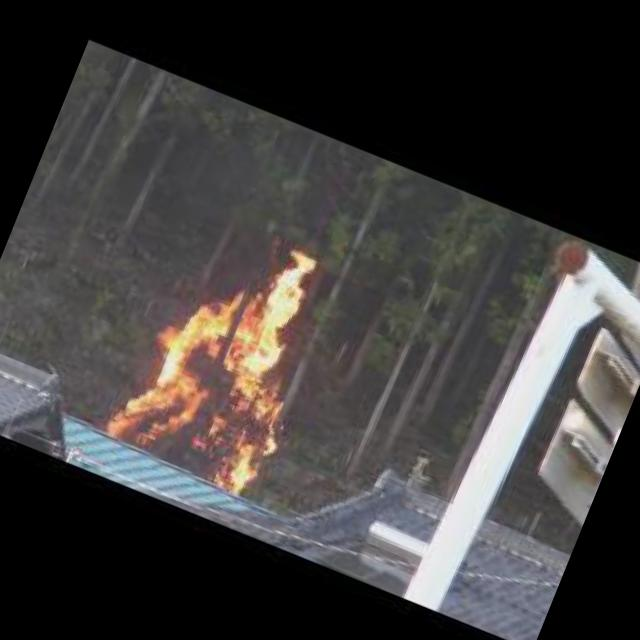fire: (102, 208, 346, 502)
